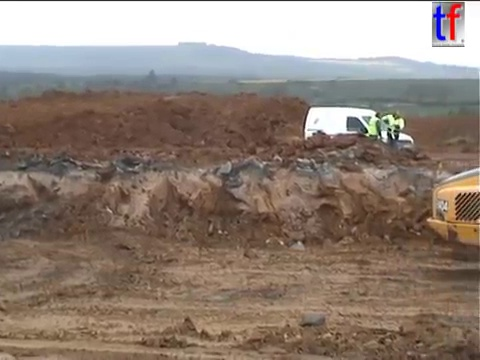truck: (423, 164, 480, 264)
worker: (381, 108, 406, 154), (366, 110, 385, 155)
